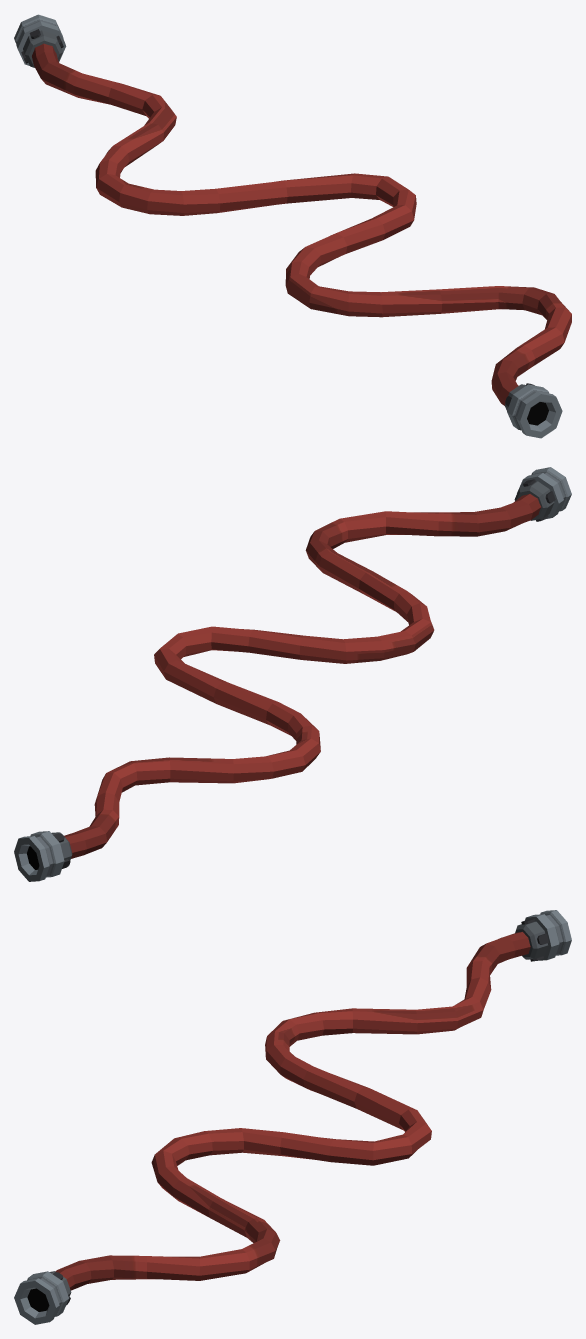
File: desert_SM_Prop_Hose_01.gltf
The picture shows the model from 3 angles, top to bottom: view 1: azimuth 30°, elevation 25°; view 2: azimuth 150°, elevation 25°; view 3: azimuth 330°, elevation 25°; orthographic projection.
Visible parts, largest first — view 1: SM_Prop_Hose_01; view 2: SM_Prop_Hose_01; view 3: SM_Prop_Hose_01.
Boxes of the visible parts, <box> form: SM_Prop_Hose_01: <box>14,14,571,438</box>; SM_Prop_Hose_01: <box>14,467,571,881</box>; SM_Prop_Hose_01: <box>14,910,571,1324</box>.
Size of the model in its own units: 1.14 by 0.2116 by 4.48.
Materials: 1 (1 with a texture image).
